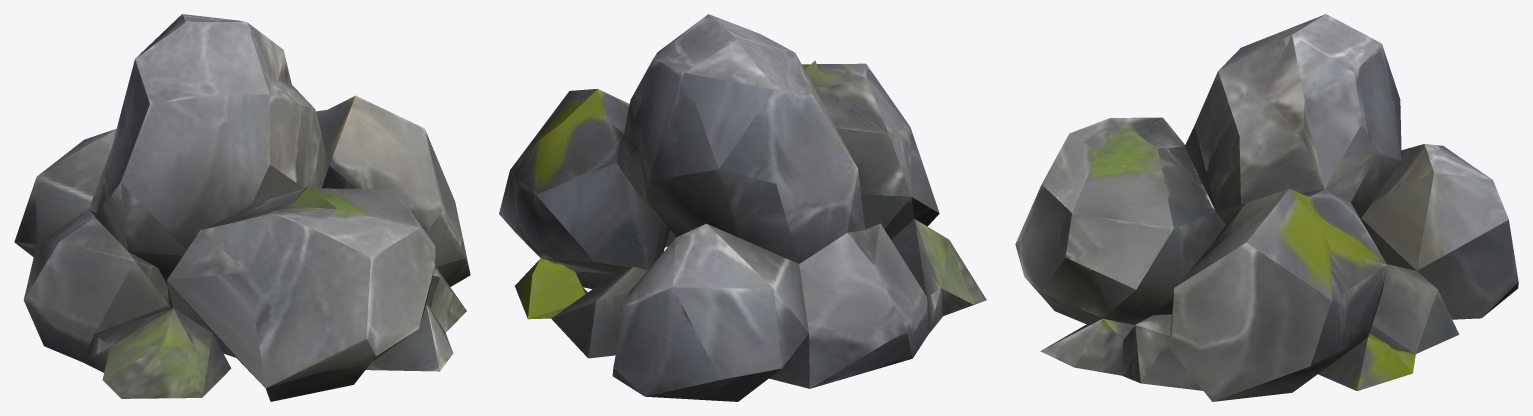
The model's file is rock.glb.
3 renders of one model, left to right at view 1: azimuth 30°, elevation 25°; view 2: azimuth 150°, elevation 25°; view 3: azimuth 270°, elevation 25°, orthographic. The views are drawn at different scales.
Visible parts, largest first — view 1: rock; view 2: rock; view 3: rock.
Boxes of the visible parts, x1,y1,x2,y2 form: rock: (14, 14, 470, 401); rock: (499, 14, 986, 401); rock: (1015, 14, 1518, 401).
Size of the model in its own units: 0.4488 by 0.3016 by 0.4812.
1 material, 1 textured.
